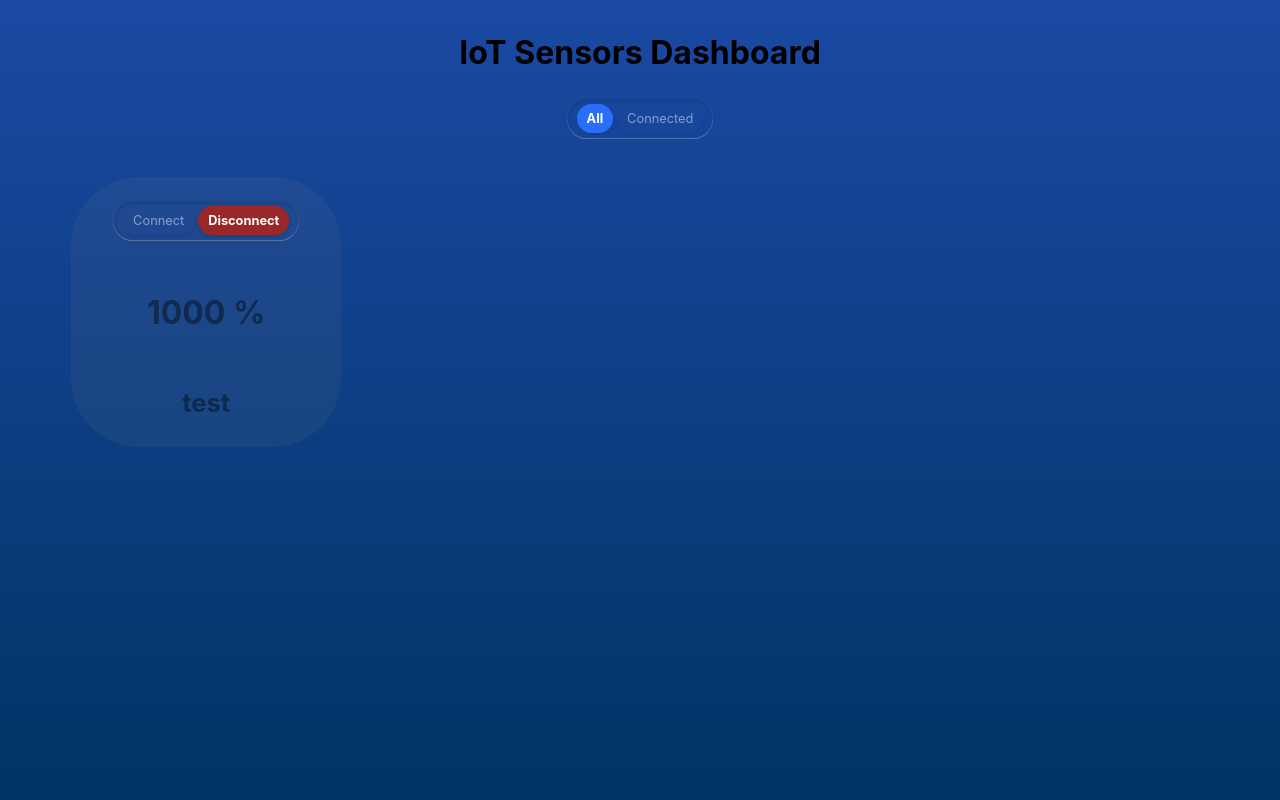
Dashboard component › renders the no data message when there are no connected sensors
The width and height of the screenshot is (1280, 800).
Check: the heading "test" is shown, box top-left (182, 384), bottom-right (230, 423)
Click the button "Connected": (660, 119) top-left (617, 104), bottom-right (703, 134)
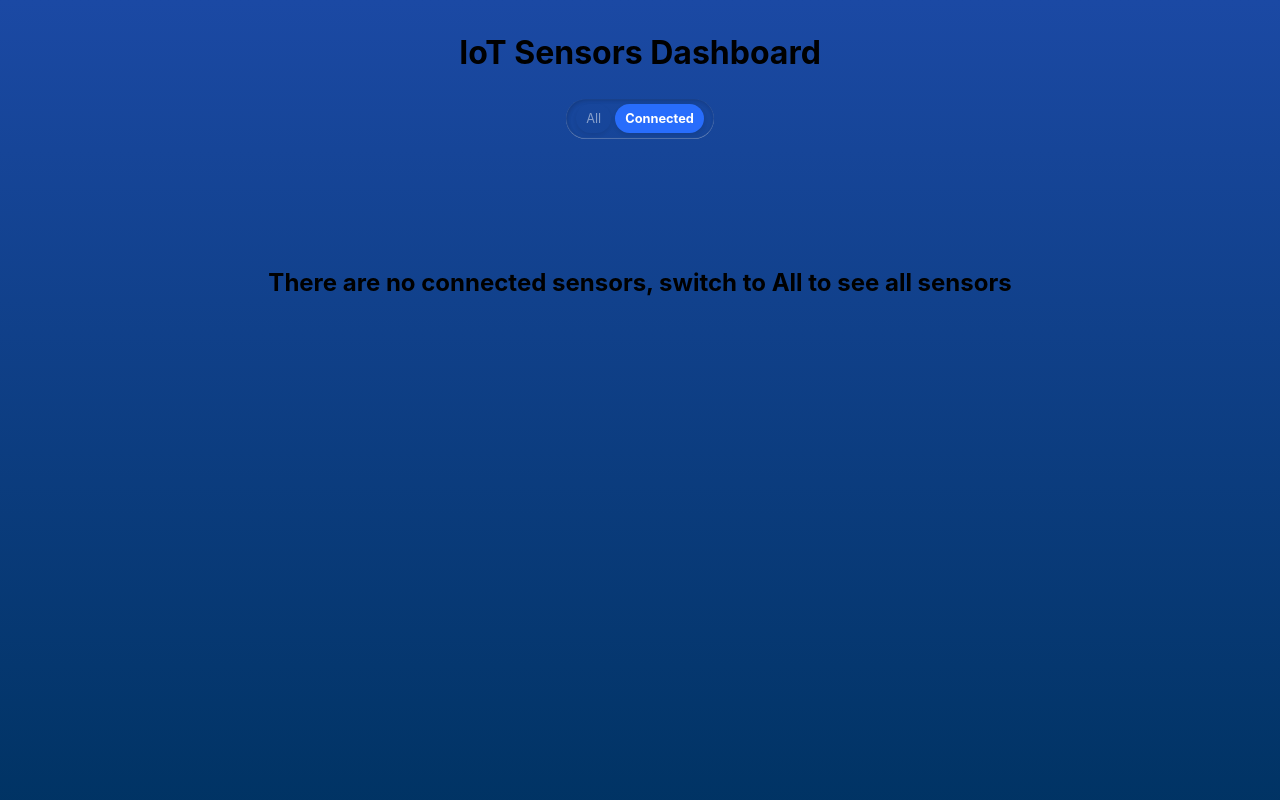
Check: the heading "test" is gone
Check: the heading "There are no connected sensors" is shown, box top-left (268, 268), bottom-right (1012, 297)
